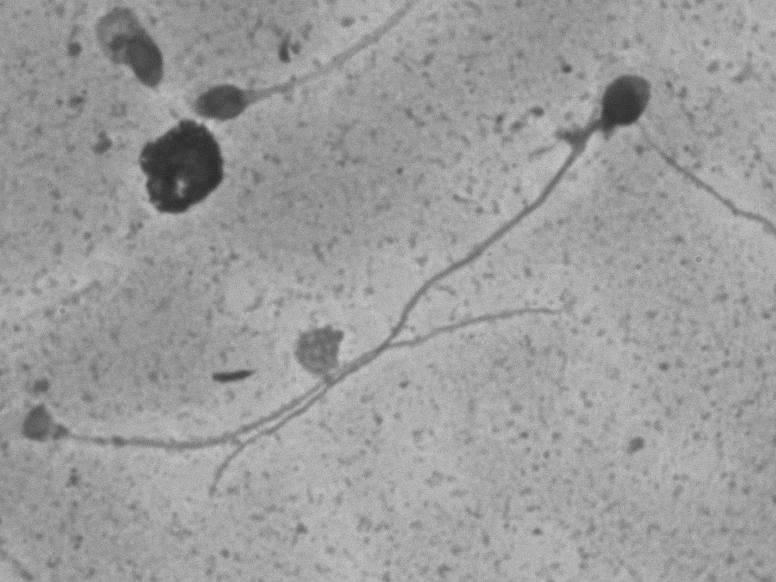Abnormal: (42, 10, 175, 114)
Normal: (191, 41, 670, 506)
